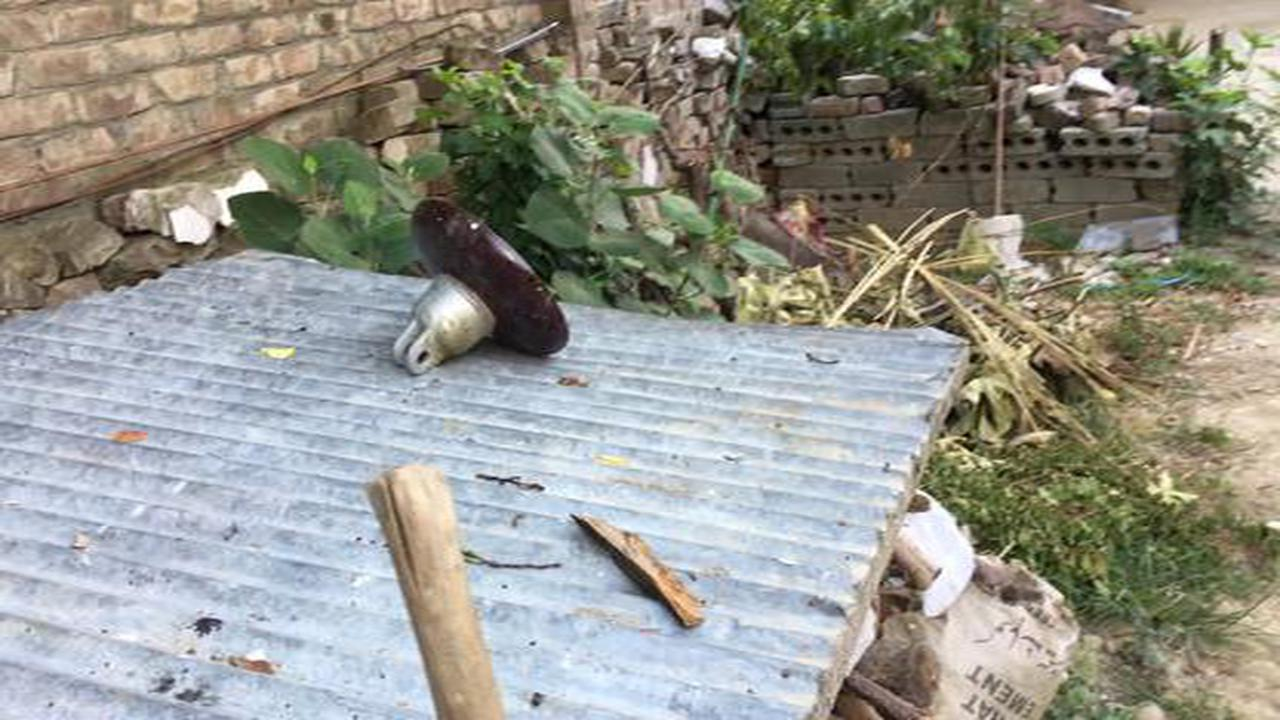insulator_disc: (387, 190, 584, 375)
